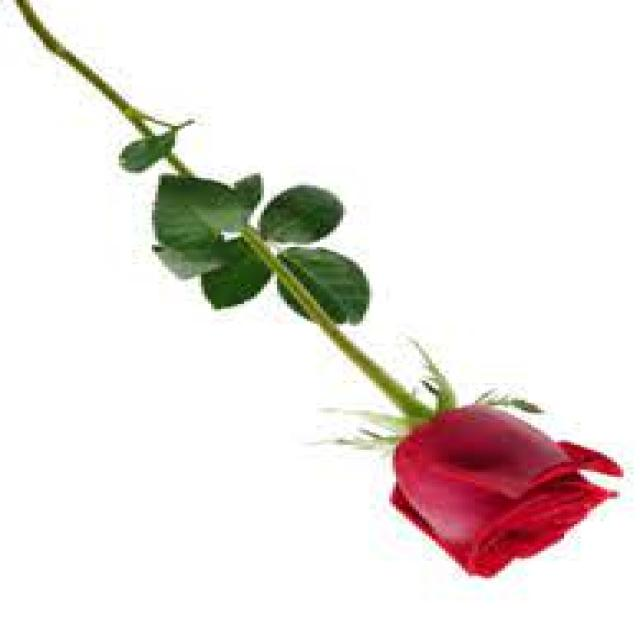rose: (375, 367, 640, 598)
